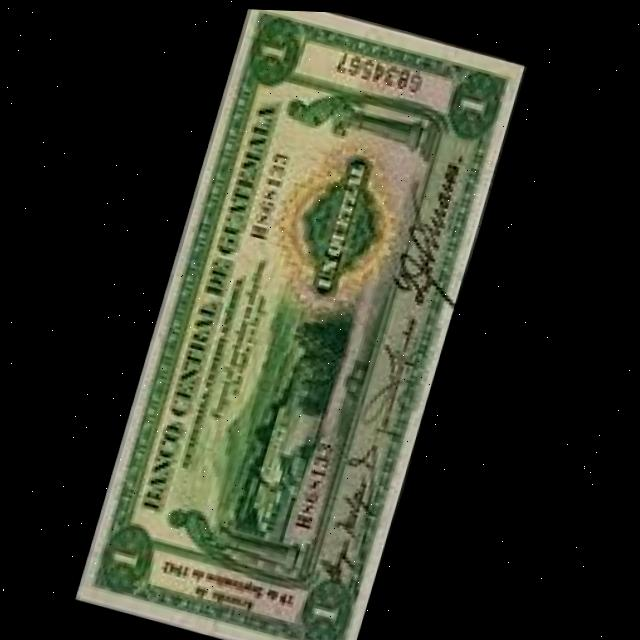banknote: (73, 3, 530, 640)
